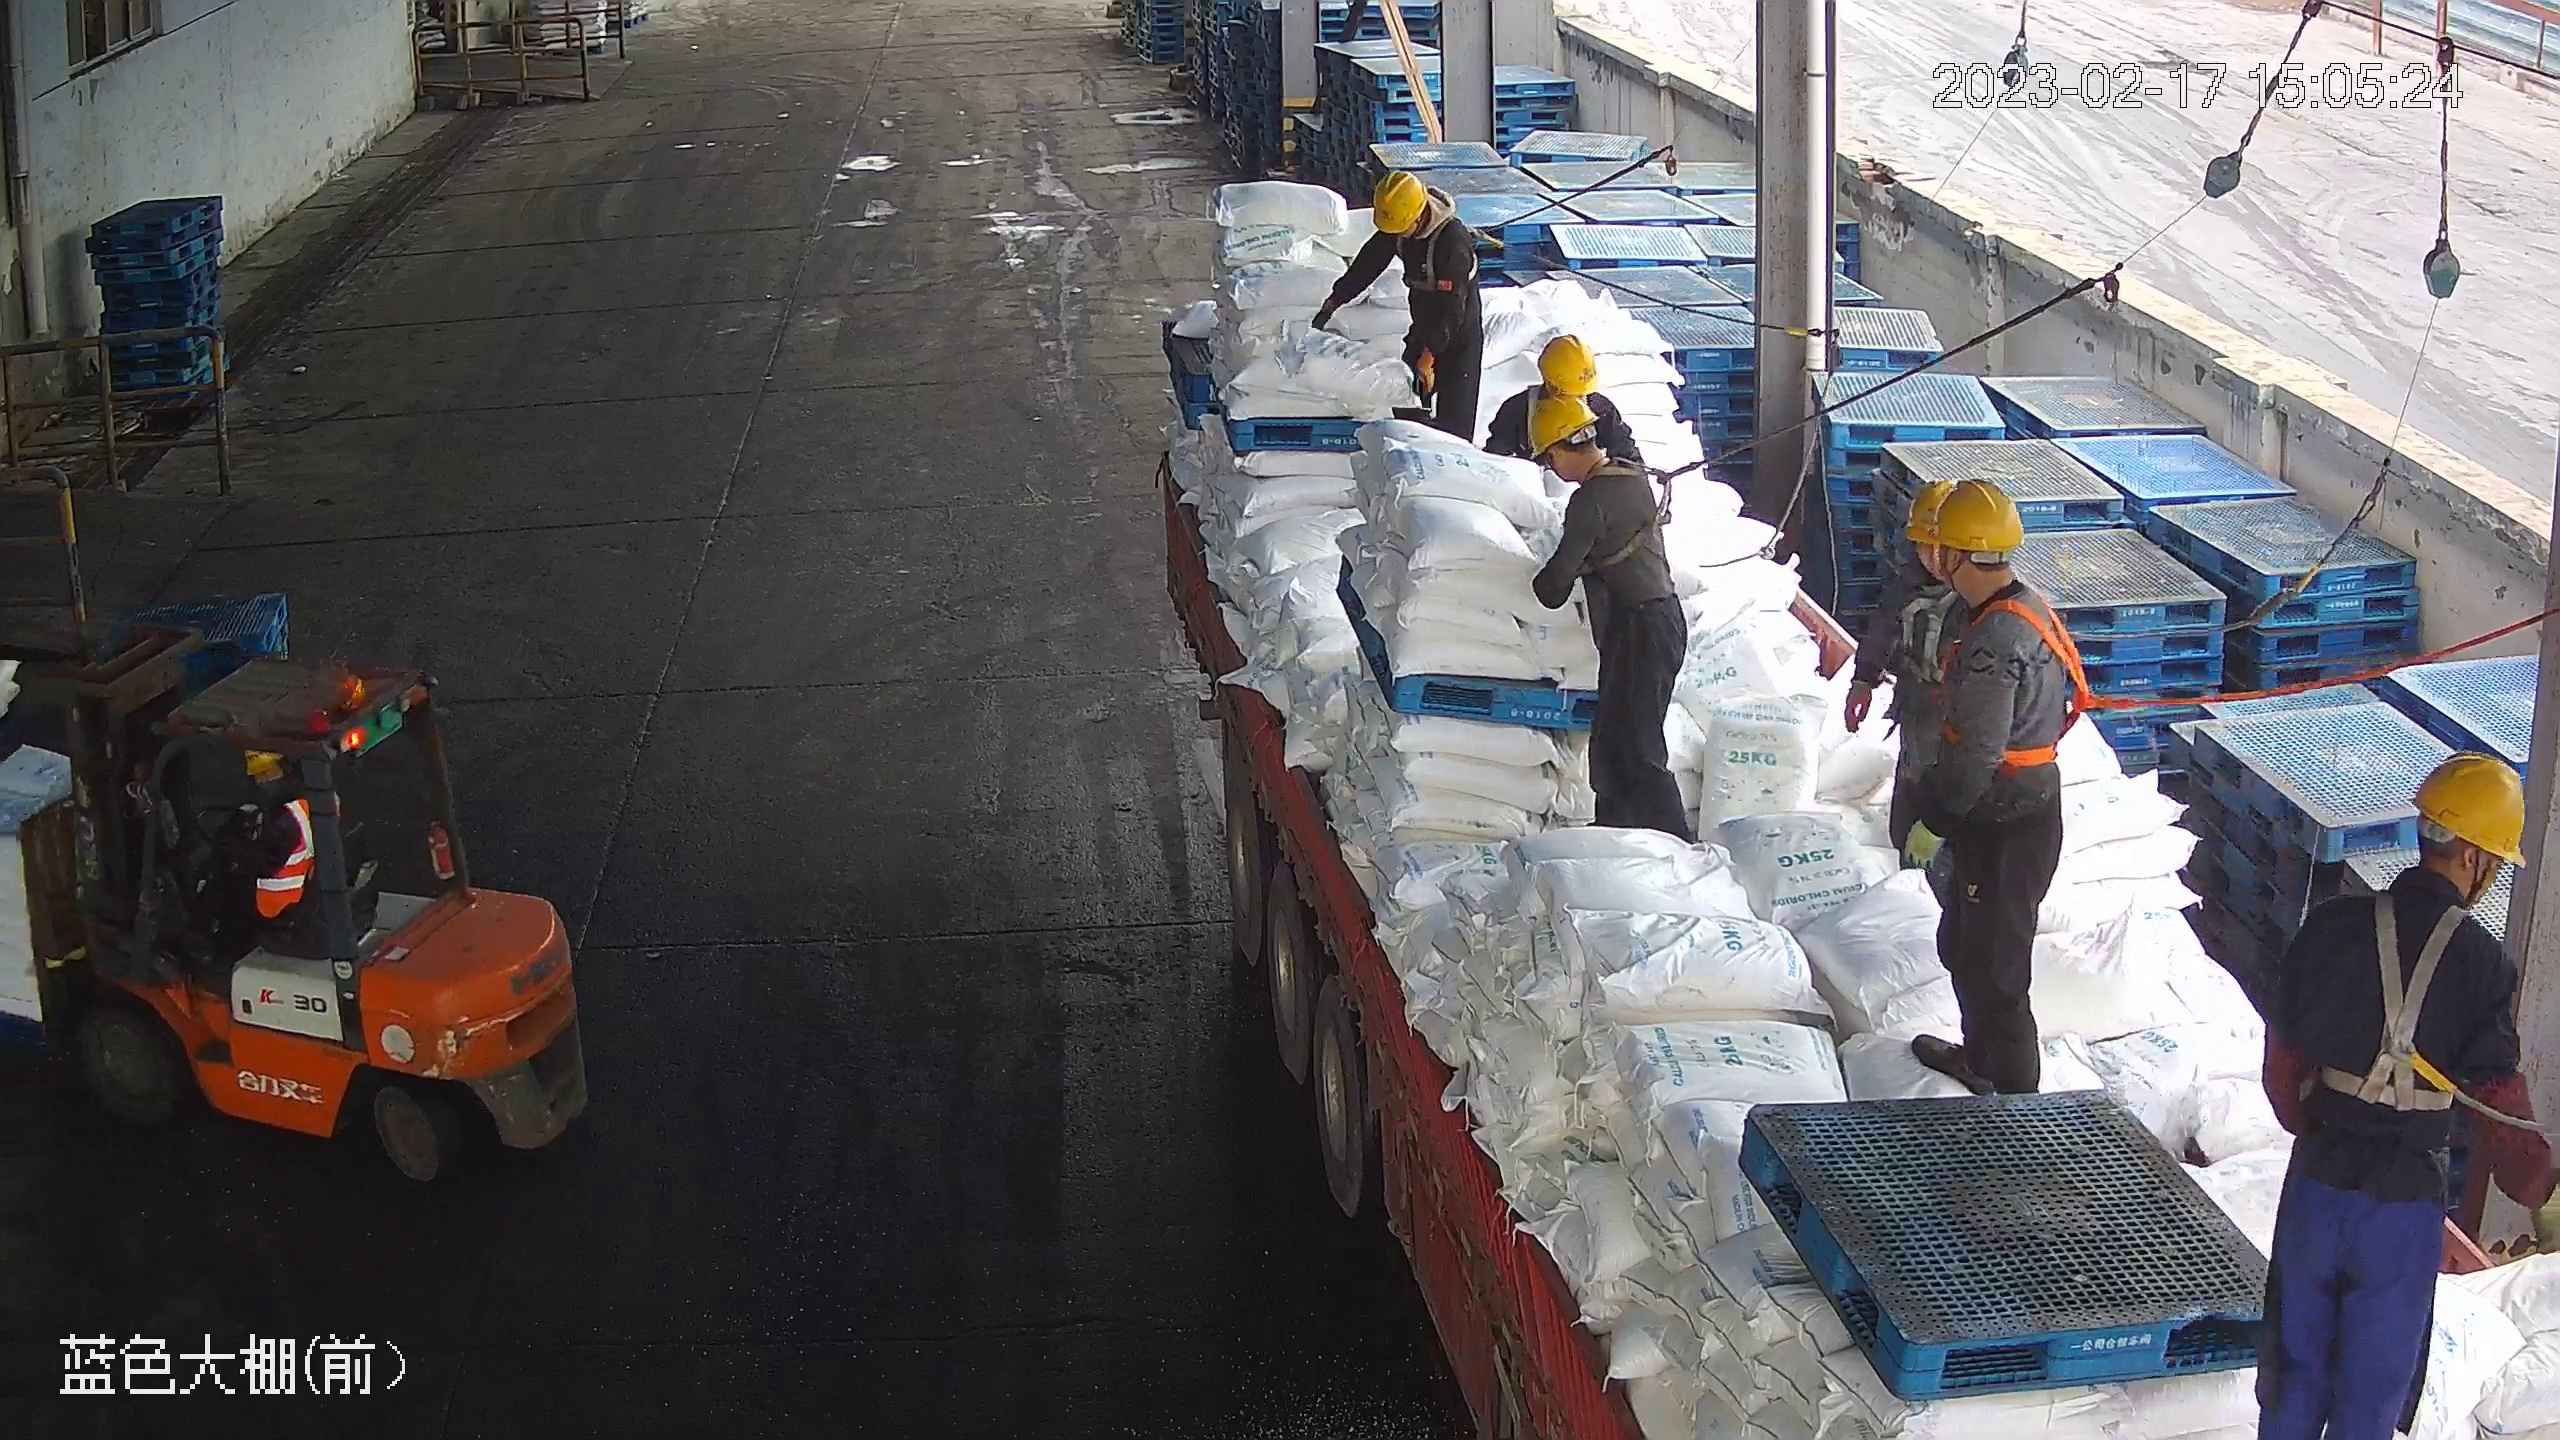belt: (2279, 892, 2533, 1140), (1913, 581, 2114, 765), (1576, 451, 1698, 565), (1890, 578, 1963, 696), (1392, 206, 1480, 283)
head: (2290, 750, 2529, 1002), (1888, 470, 2070, 672), (1525, 395, 1665, 521), (1367, 169, 1481, 298)
helmet: (2410, 748, 2523, 869), (1905, 474, 2027, 555), (1527, 348, 1597, 428), (1525, 393, 1597, 458), (1534, 331, 1599, 394), (1369, 169, 1430, 234)
people: (2252, 742, 2558, 1433), (1856, 478, 2070, 1097), (1521, 393, 1702, 841), (1316, 167, 1489, 437), (182, 744, 318, 963)
truck: (1168, 377, 2556, 1439)
